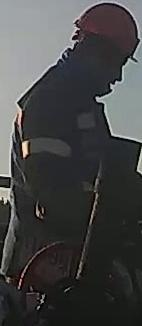helmet: (74, 3, 140, 64)
vest: (7, 83, 111, 276)
